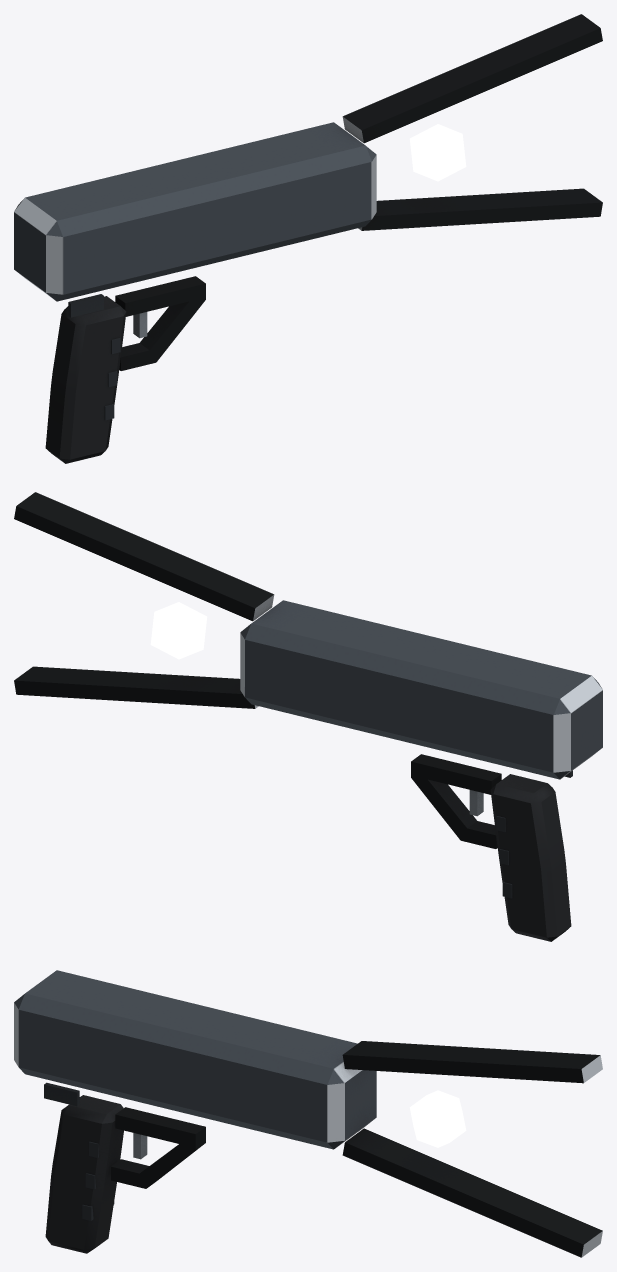
Rendered from opr_wpn_disruptor_a.glb.
3 views of the same model, one above another, from view 1: azimuth 30°, elevation 25°; view 2: azimuth 150°, elevation 25°; view 3: azimuth 330°, elevation 25° (orthographic).
Parts seen in each view (by area): view 1: mesh_intact; view 2: mesh_intact; view 3: mesh_intact.
Part boxes in pixels (<box>): mesh_intact: <box>14,14,602,463</box>; mesh_intact: <box>14,492,602,941</box>; mesh_intact: <box>14,970,602,1257</box>.
Bounding box in the file's own units: 0.5109 × 0.2668 × 0.07.
1 material, 1 textured.
